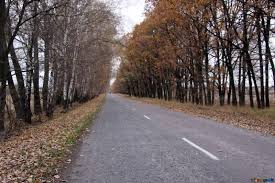strada: (11, 110, 274, 182)
